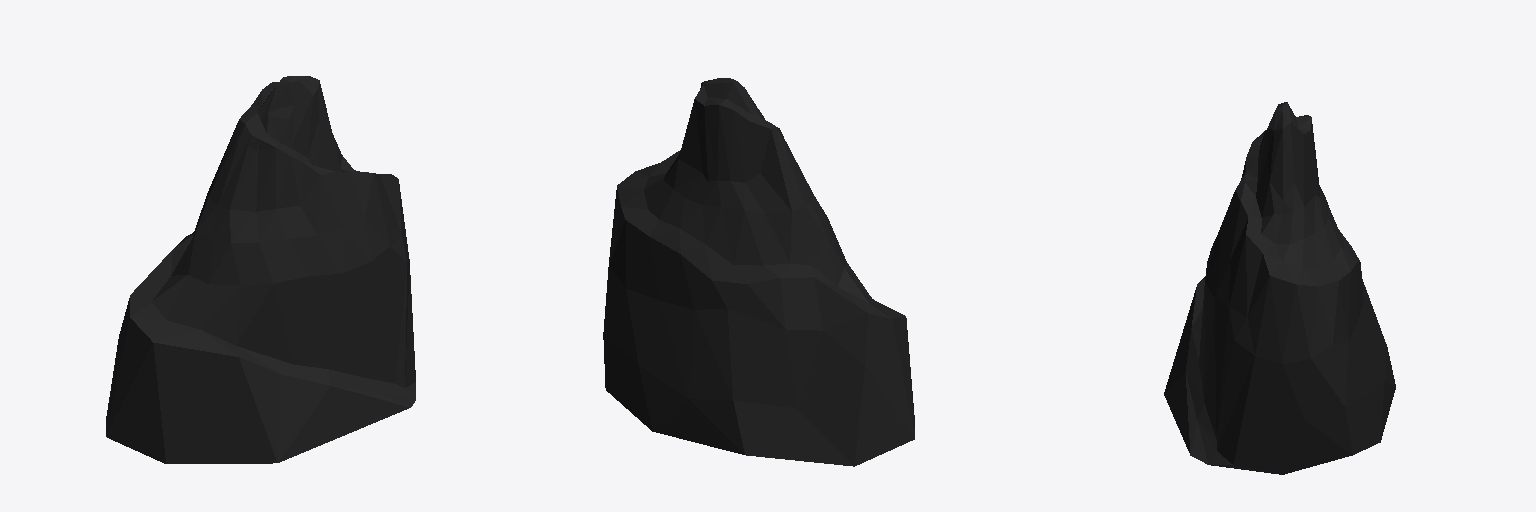
Rendered from stone.obj.
The picture shows the model from 3 angles: view 1: azimuth 30°, elevation 25°; view 2: azimuth 150°, elevation 25°; view 3: azimuth 270°, elevation 25°; orthographic projection.
Visible parts, largest first — view 1: Mountain; view 2: Mountain; view 3: Mountain.
Part boxes in pixels (left/top/right/bottom): Mountain: left=106, top=76, right=415, bottom=463; Mountain: left=603, top=78, right=914, bottom=466; Mountain: left=1164, top=102, right=1395, bottom=474.
Bounding box in the file's own units: 1.21 × 1.32 × 0.8192.